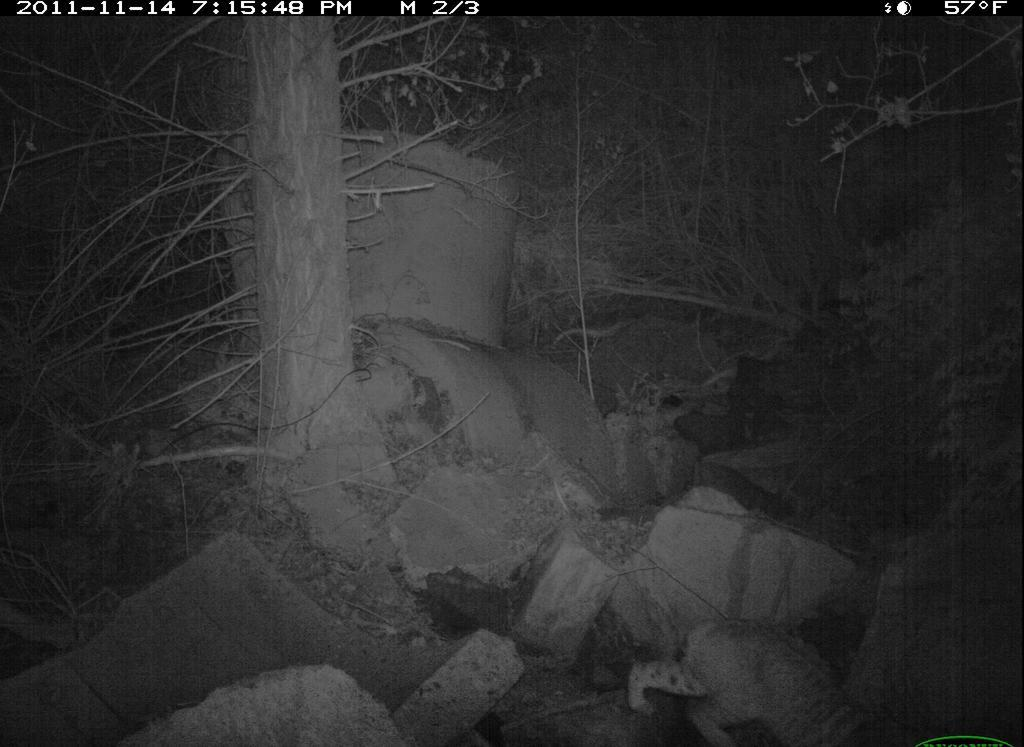bobcat: (621, 597, 889, 747)
